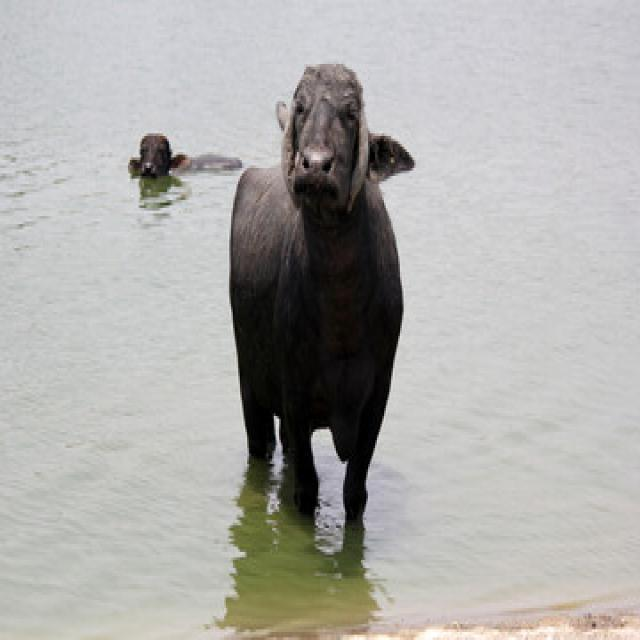Buffalo: (233, 56, 413, 533)
